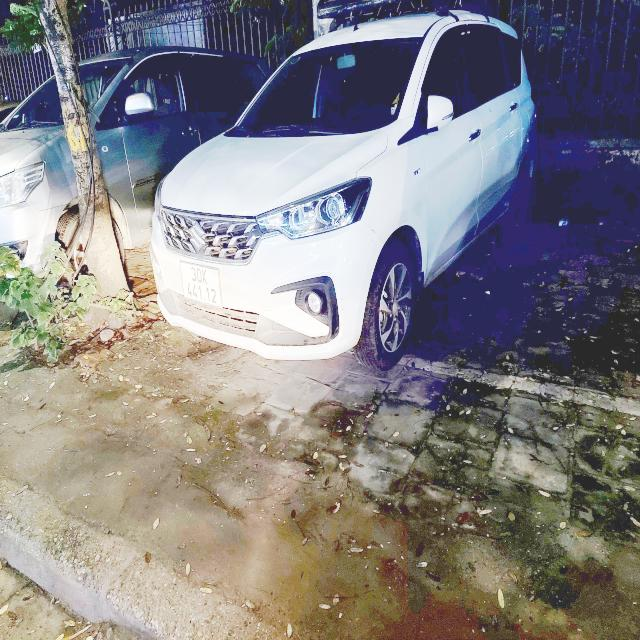license_plate: (180, 259, 225, 313)
